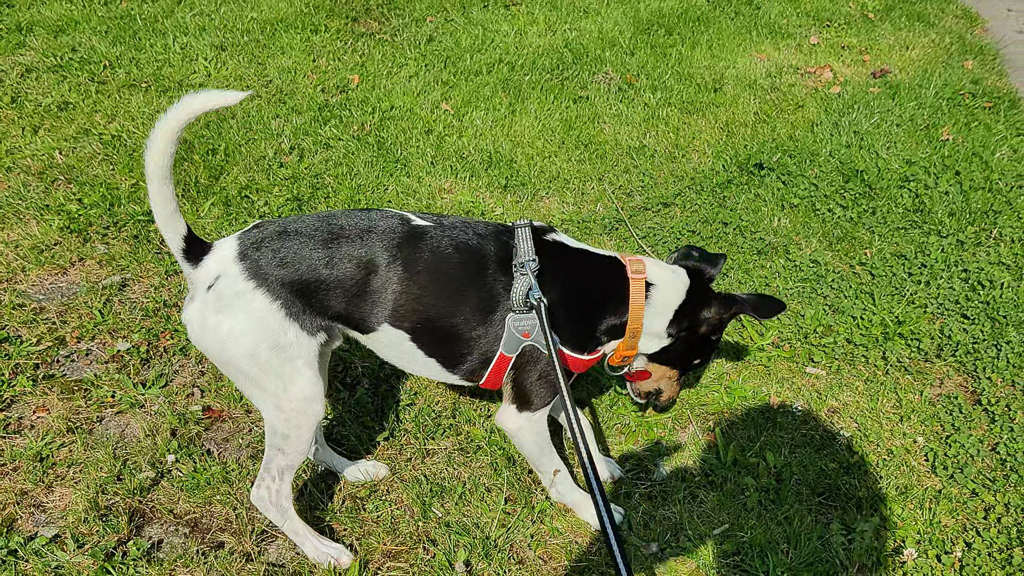Dog: (131, 76, 796, 576)
